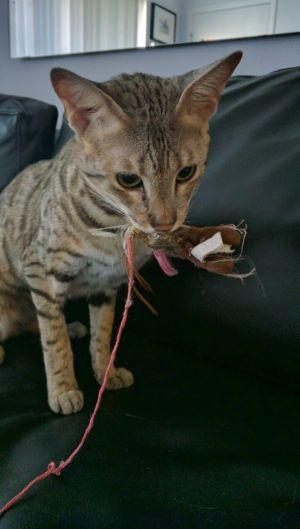bengal: (50, 47, 252, 242)
